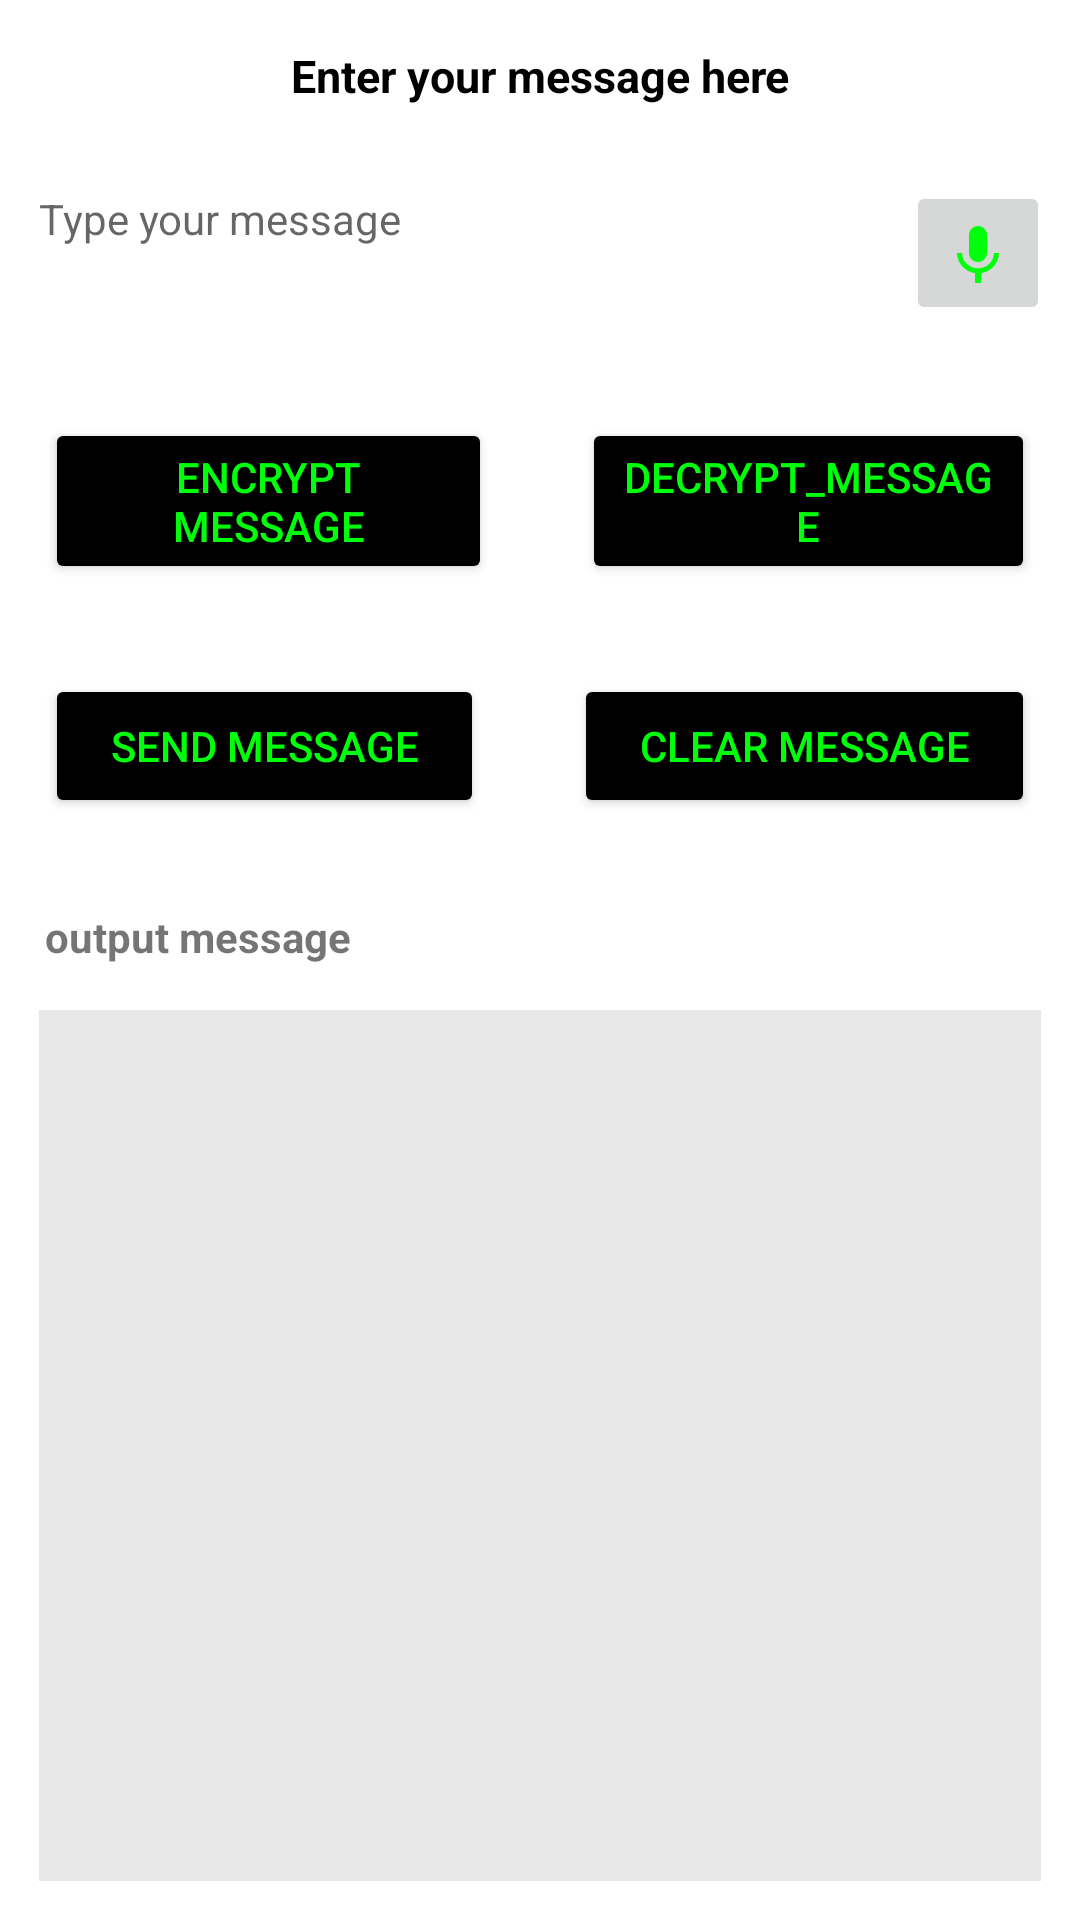

Named icons in this screenshot (1080w x 1920h) and their centers, (x=x, y=y):
keyboard voice: (x=978, y=253)
